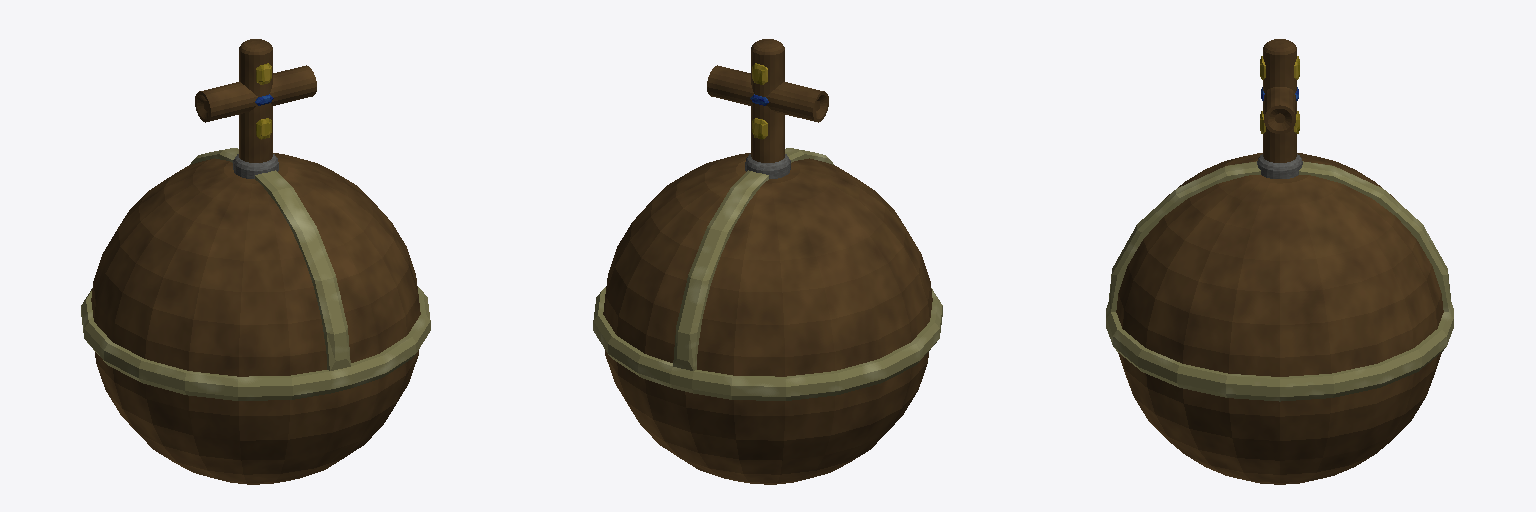
3 views of the same model, side by side, from view 1: azimuth 30°, elevation 25°; view 2: azimuth 150°, elevation 25°; view 3: azimuth 270°, elevation 25° (orthographic).
Parts seen in each view (by area): view 1: Sphere, Cylinder, Sphere.001, Cube.012; view 2: Sphere, Cylinder, Sphere.001, Cube.012; view 3: Sphere, Cylinder, Sphere.001.
Part boxes in pixels (bbox=[...]): Sphere: bbox=[91, 39, 420, 484]; Cylinder: bbox=[81, 148, 430, 400]; Sphere.001: bbox=[233, 154, 278, 178]; Cube.012: bbox=[256, 63, 271, 139]; Sphere: bbox=[603, 39, 932, 484]; Cylinder: bbox=[593, 148, 942, 400]; Sphere.001: bbox=[745, 154, 790, 178]; Cube.012: bbox=[752, 63, 767, 139]; Sphere: bbox=[1116, 39, 1443, 484]; Cylinder: bbox=[1106, 161, 1453, 401]; Sphere.001: bbox=[1257, 154, 1302, 178].
Bounding box in the file's own units: 2.1 × 2.82 × 2.08.
Materials: 1 (1 with a texture image).